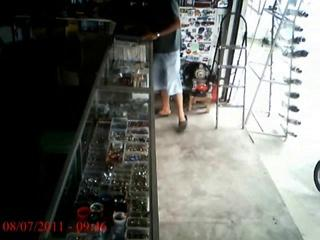Normal: (142, 0, 188, 132)
